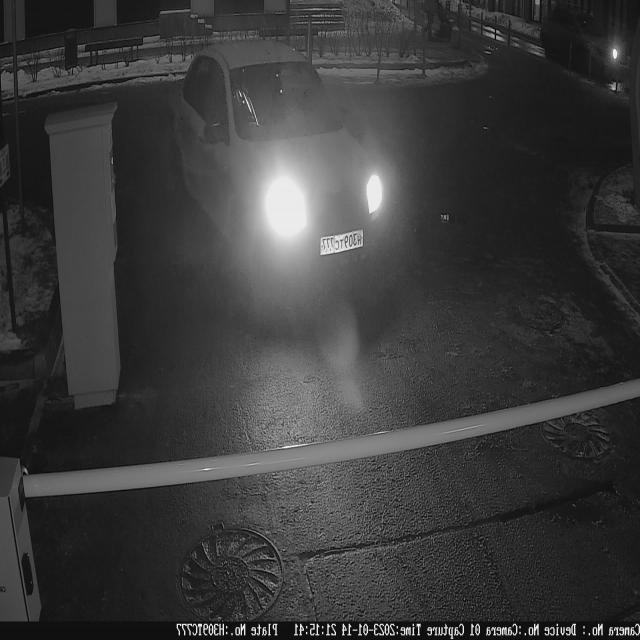car-plate-numbers: (318, 223, 366, 266)
